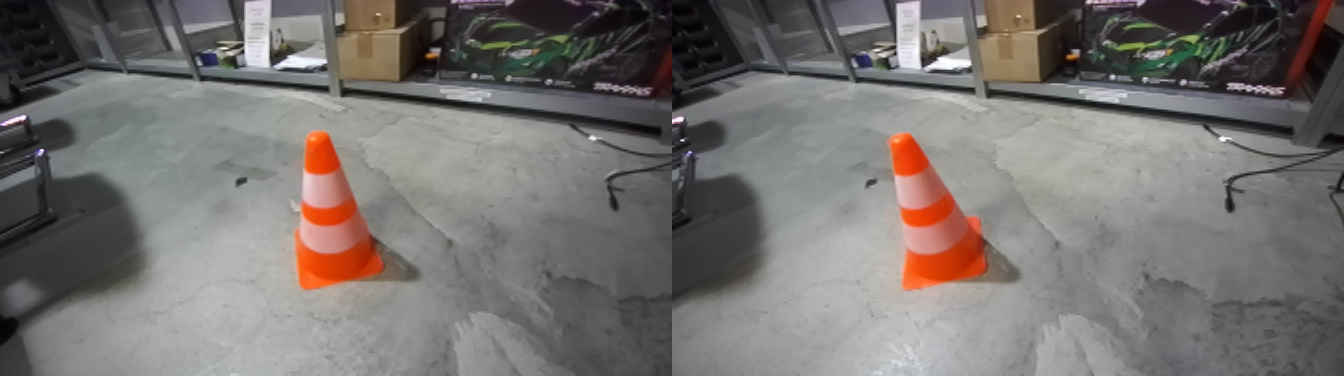cone: (889, 134, 993, 294), (294, 136, 391, 298)
